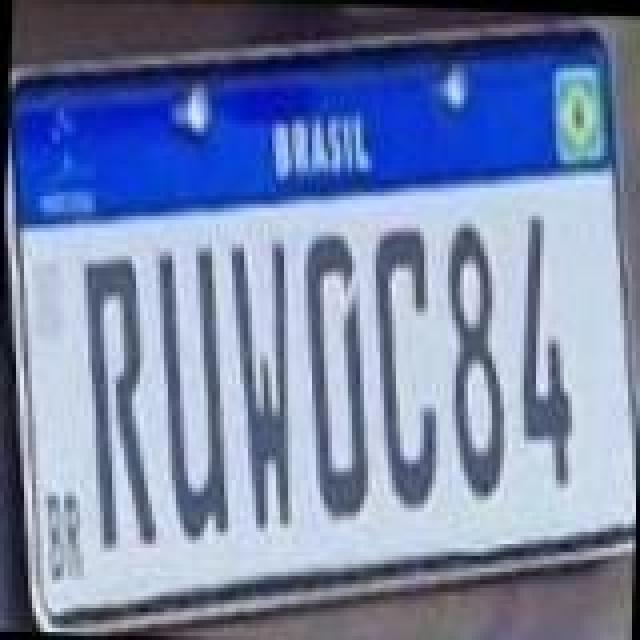4: (518, 212, 578, 484)
8: (434, 220, 506, 500)
C: (362, 224, 442, 504)
D: (292, 224, 376, 516)
R: (70, 248, 166, 552)
U: (144, 242, 236, 546)
W: (210, 234, 298, 534)
